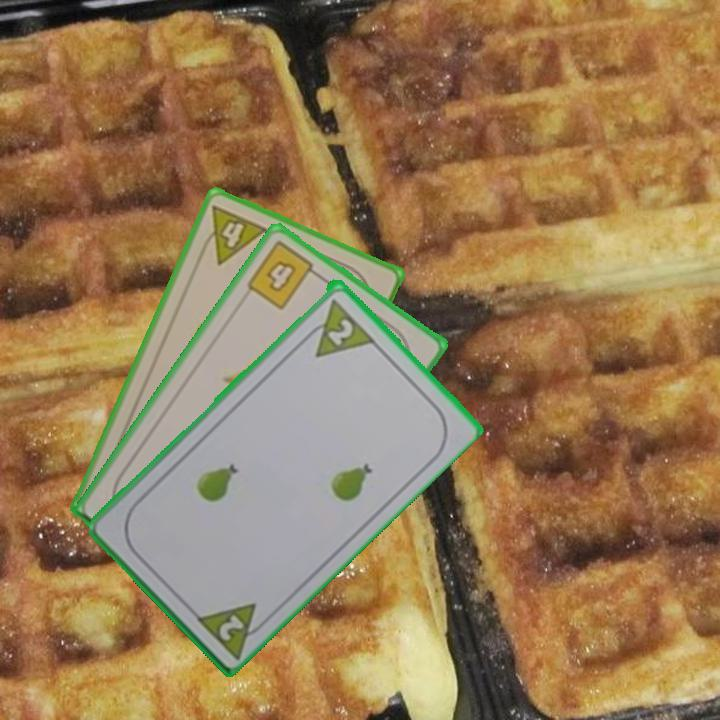2p: (324, 314, 357, 349), (215, 610, 248, 643)
4b: (243, 237, 325, 313)
4p: (194, 201, 271, 268)
